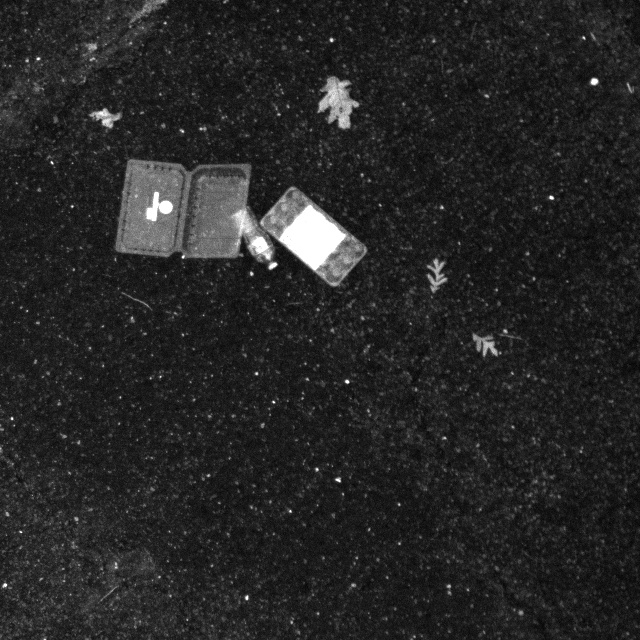bottle: (230, 196, 284, 274)
container: (109, 152, 258, 260), (251, 183, 369, 288)
